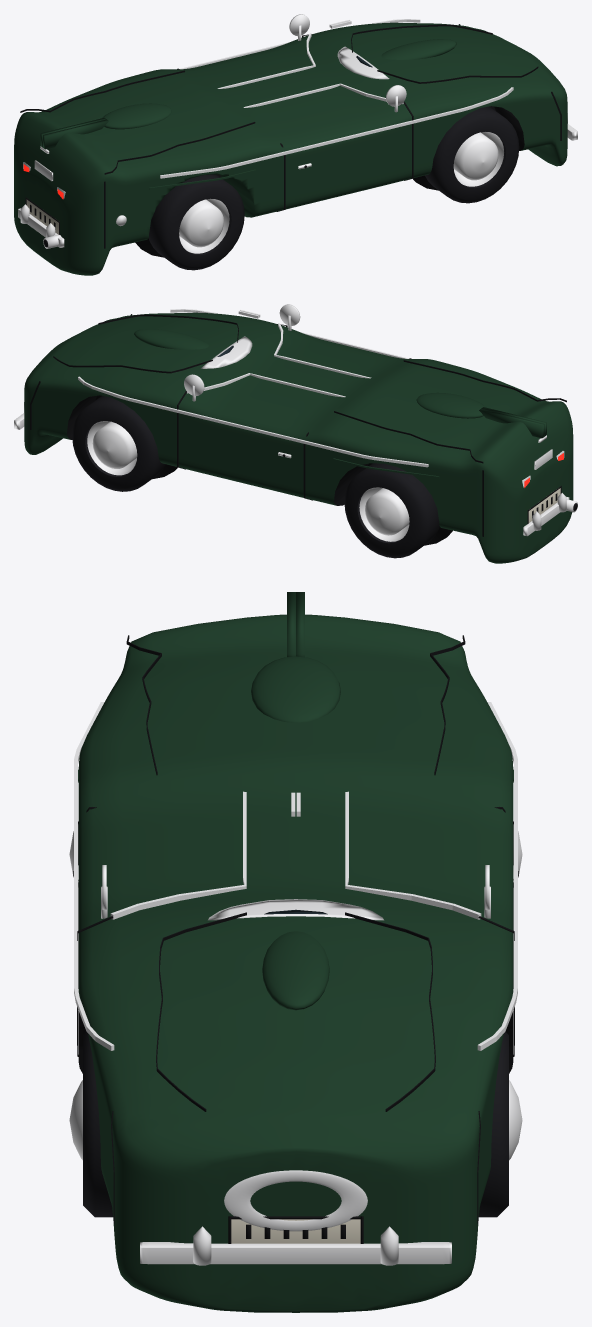
The model's file is t1_alpaca.glb.
The picture shows the model from 3 angles, top to bottom: view 1: azimuth 30°, elevation 25°; view 2: azimuth 150°, elevation 25°; view 3: azimuth 270°, elevation 25°; orthographic projection. The views are drawn at different scales.
Parts seen in each view (by area): view 1: paint_00, tyre_01, tyre_03, chrome_25, chrome_23, chrome_43, paint_06, paint_05, chrome_05, paint_03, chrome_35, chrome_37 (+10 smaller); view 2: paint_00, tyre_00, tyre_02, chrome_24, chrome_22, chrome_42, paint_06, paint_05, trim_04, chrome_05, paint_04, chrome_34 (+11 smaller); view 3: paint_00, chrome_02, paint_06, paint_05, chrome_07, tyre_02, tyre_03, chrome_05, wall_00, chrome_42, chrome_43, chrome_40 (+1 smaller).
Part boxes in pixels (left/top/right/bottom): paint_00: left=14, top=22, right=567, bottom=275; tyre_01: left=148, top=174, right=244, bottom=270; tyre_03: left=425, top=106, right=519, bottom=203; chrome_25: left=453, top=132, right=498, bottom=180; chrome_23: left=179, top=199, right=223, bottom=247; chrome_43: left=160, top=87, right=513, bottom=178; paint_06: left=102, top=103, right=171, bottom=129; paint_05: left=381, top=39, right=456, bottom=59; chrome_05: left=337, top=46, right=389, bottom=79; paint_03: left=43, top=119, right=108, bottom=149; chrome_35: left=179, top=198, right=229, bottom=253; chrome_37: left=454, top=132, right=503, bottom=186; paint_00: left=24, top=312, right=573, bottom=563; tyre_00: left=344, top=463, right=439, bottom=558; tyre_02: left=72, top=396, right=165, bottom=491; chrome_24: left=92, top=421, right=137, bottom=468; chrome_22: left=365, top=488, right=409, bottom=535; chrome_42: left=78, top=376, right=428, bottom=467; paint_06: left=416, top=392, right=485, bottom=418; paint_05: left=134, top=329, right=208, bottom=349; trim_04: left=67, top=396, right=368, bottom=505; chrome_05: left=201, top=336, right=252, bottom=368; paint_04: left=479, top=408, right=544, bottom=438; chrome_34: left=359, top=487, right=409, bottom=541; paint_00: left=78, top=614, right=513, bottom=1312; chrome_02: left=140, top=1242, right=451, bottom=1264; paint_06: left=251, top=656, right=340, bottom=722; paint_05: left=262, top=931, right=329, bottom=1010; chrome_07: left=224, top=1170, right=367, bottom=1231; tyre_02: left=478, top=1032, right=508, bottom=1217; tyre_03: left=83, top=1032, right=113, bottom=1217; chrome_05: left=208, top=899, right=383, bottom=920; wall_00: left=231, top=1219, right=360, bottom=1243; chrome_42: left=477, top=702, right=517, bottom=1050; chrome_43: left=74, top=702, right=114, bottom=1050; chrome_40: left=345, top=791, right=481, bottom=919.
Size of the model in its own units: 10.47 by 3.29 by 4.02.
